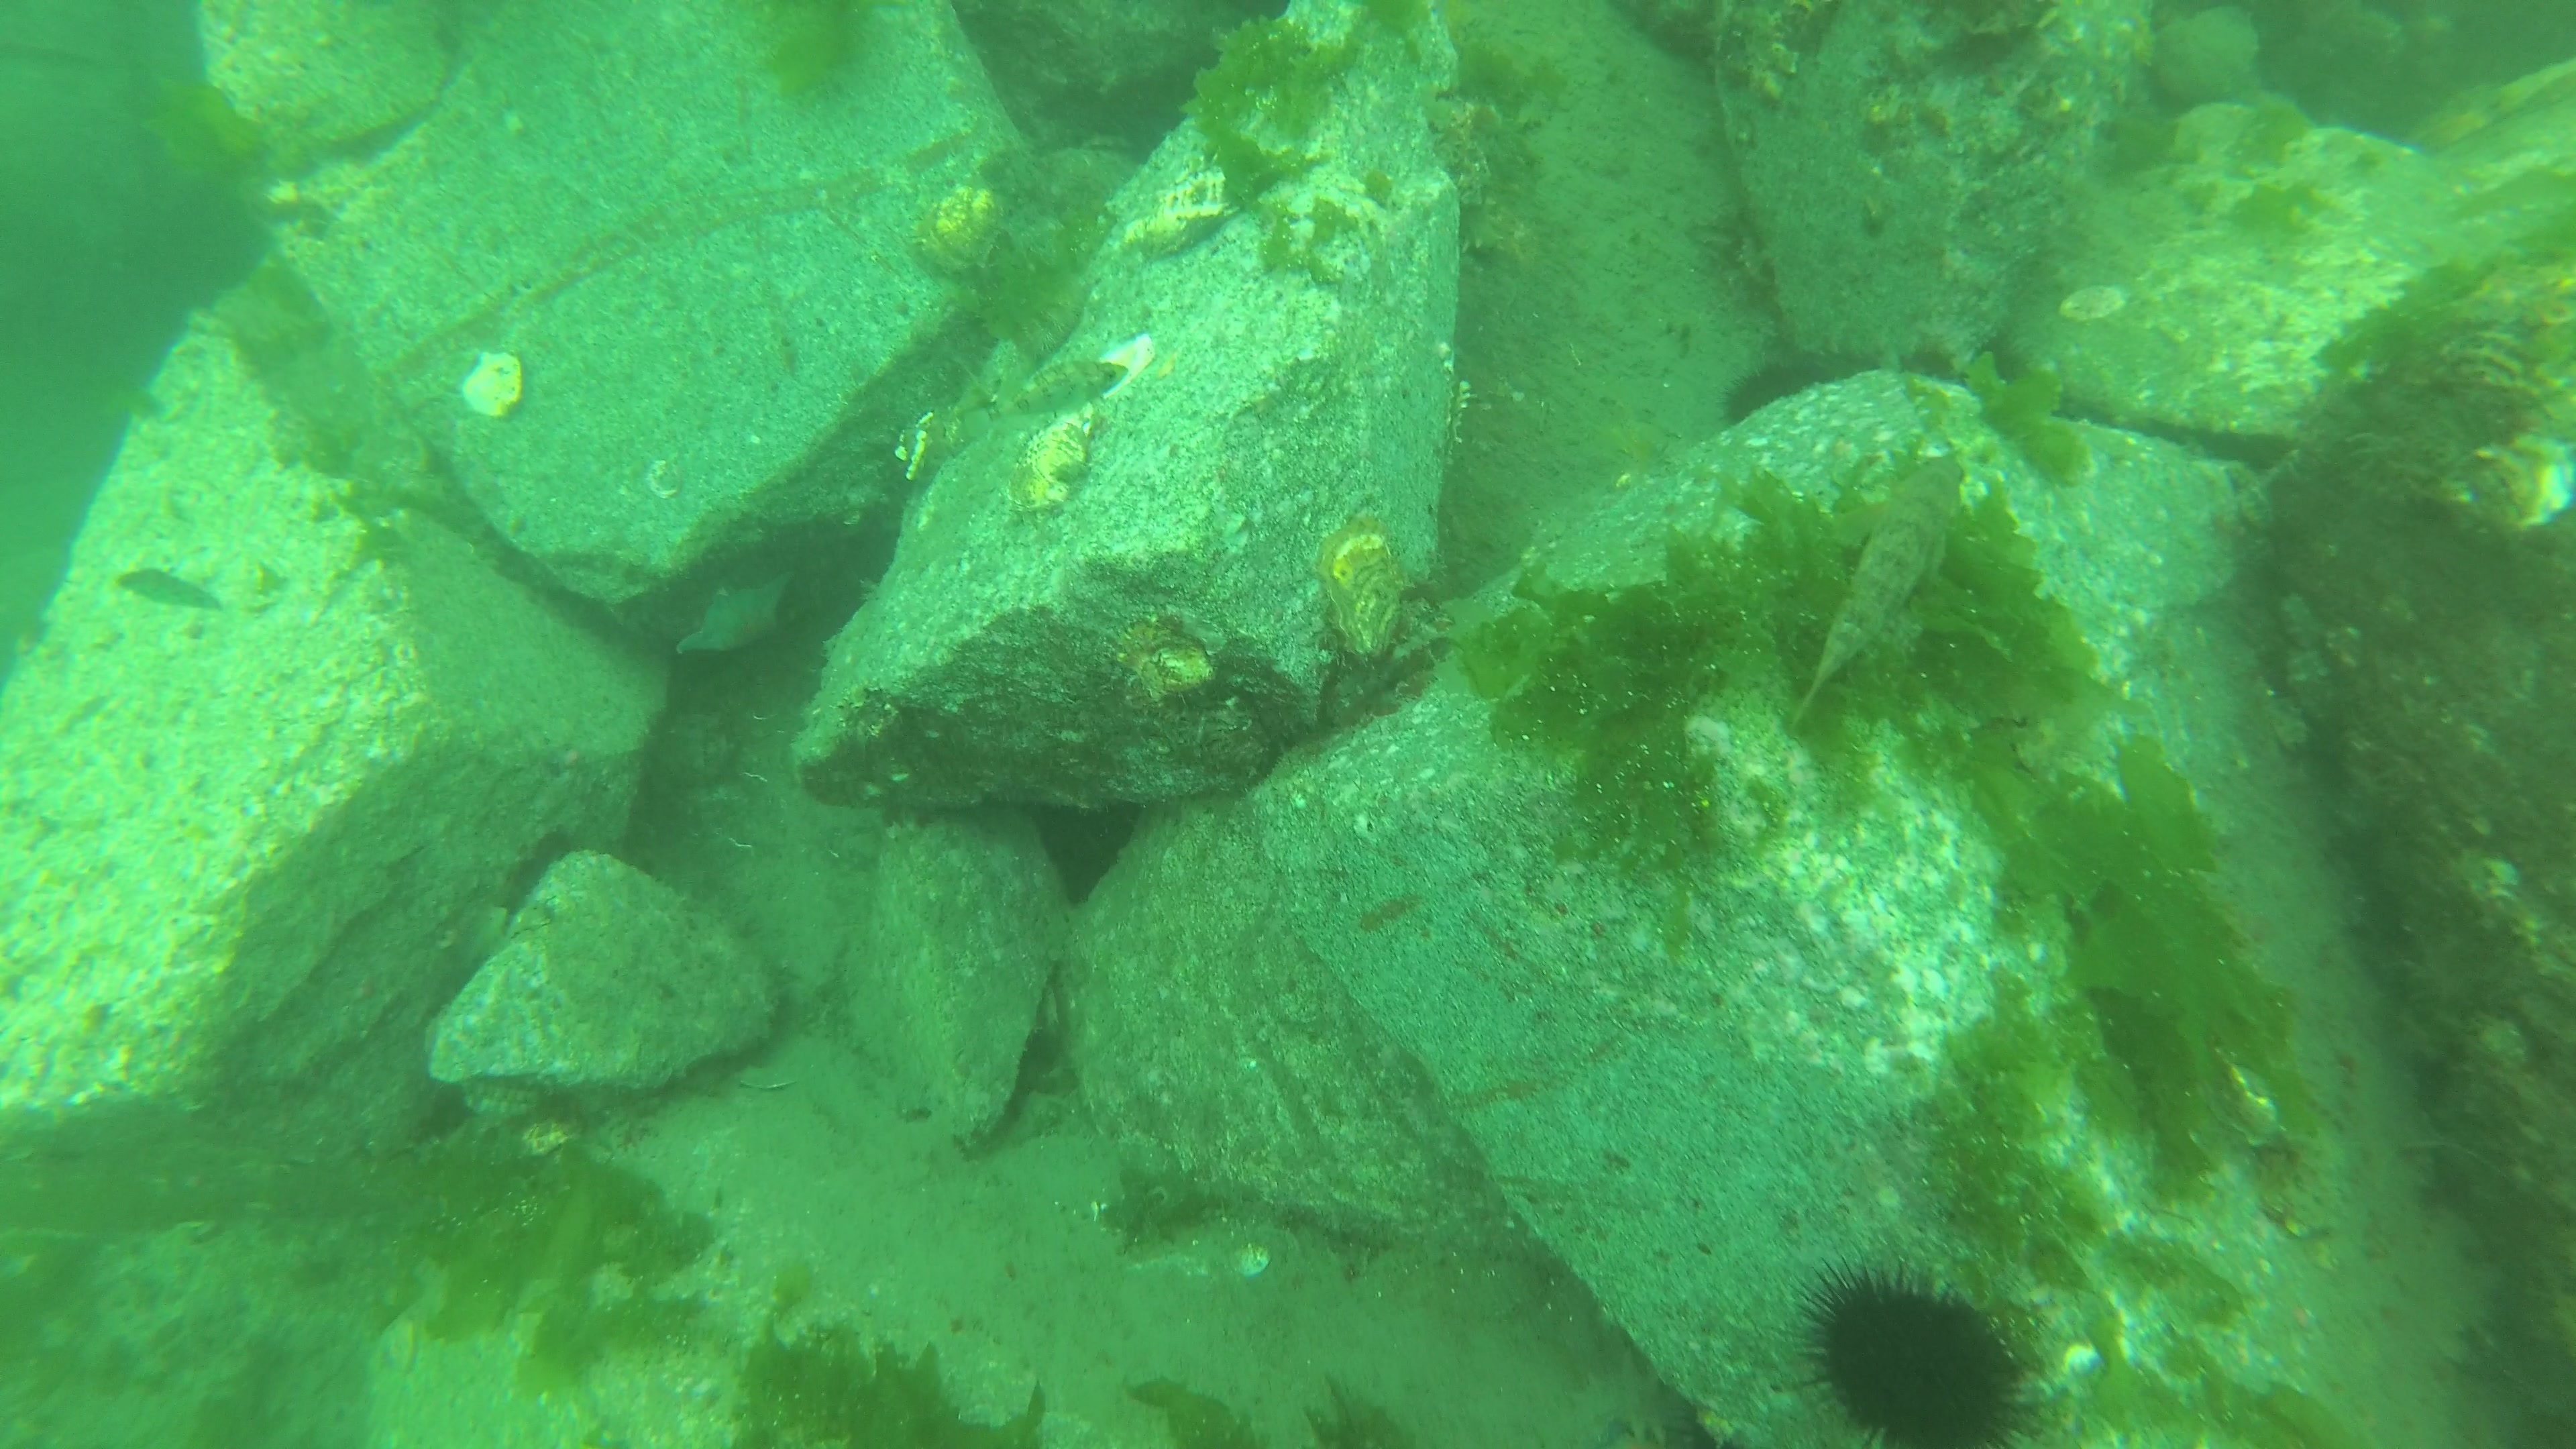echinus: (1776, 1244, 2043, 1449), (1090, 53, 1207, 156), (1716, 356, 1835, 426), (1969, 331, 2038, 386), (1897, 345, 1964, 386)
starfish: (676, 571, 798, 655)
